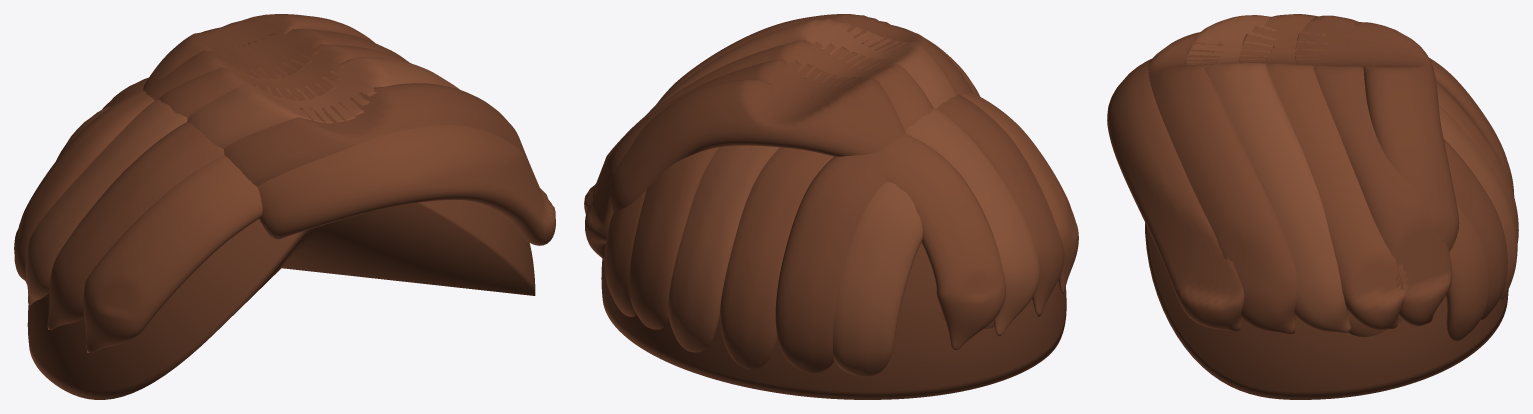
Rendered from Masculine-sidepart-cowboy258-hair.glb.
The picture shows the model from 3 angles, left to right: view 1: azimuth 30°, elevation 25°; view 2: azimuth 150°, elevation 25°; view 3: azimuth 270°, elevation 25°; orthographic projection. The views are drawn at different scales.
Visible parts, largest first — view 1: 226 hair / Hair258 / sculpted side sweep 1, 226 hair / Hair258 / recessed roots, 226 hair / Hair258 / sculpted side sweep 0, 226 hair / Hair258 / sculpted side sweep 2; view 2: 226 hair / Hair258 / sculpted side sweep 0, 226 hair / Hair258 / sculpted side sweep 1, 226 hair / Hair258 / sculpted side sweep 2, 226 hair / Hair258 / recessed roots; view 3: 226 hair / Hair258 / sculpted side sweep 0, 226 hair / Hair258 / sculpted side sweep 1, 226 hair / Hair258 / sculpted side sweep 2, 226 hair / Hair258 / recessed roots.
Boxes of the visible parts, x1,y1,x2,y2 form: 226 hair / Hair258 / sculpted side sweep 1: (14, 44, 555, 352); 226 hair / Hair258 / recessed roots: (27, 200, 535, 399); 226 hair / Hair258 / sculpted side sweep 0: (47, 14, 530, 329); 226 hair / Hair258 / sculpted side sweep 2: (25, 57, 459, 305); 226 hair / Hair258 / sculpted side sweep 0: (585, 14, 1064, 372); 226 hair / Hair258 / sculpted side sweep 1: (584, 25, 1078, 369); 226 hair / Hair258 / sculpted side sweep 2: (646, 19, 1040, 376); 226 hair / Hair258 / recessed roots: (601, 242, 1066, 399); 226 hair / Hair258 / sculpted side sweep 0: (1148, 15, 1514, 336); 226 hair / Hair258 / sculpted side sweep 1: (1107, 14, 1518, 340); 226 hair / Hair258 / sculpted side sweep 2: (1184, 15, 1517, 332); 226 hair / Hair258 / recessed roots: (1145, 223, 1508, 399).
Size of the model in its own units: 0.9741 by 0.5484 by 0.7913.
